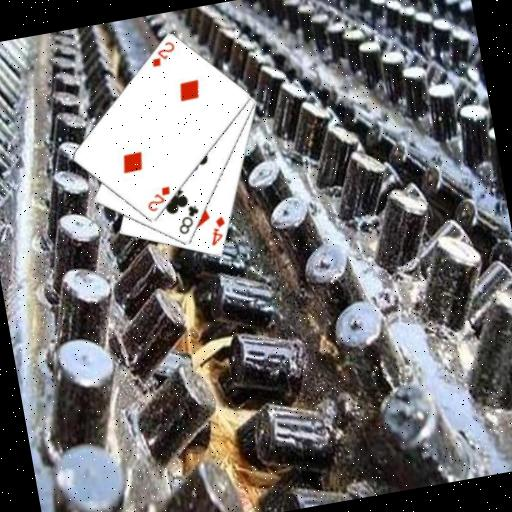2D: (141, 182, 175, 214), (145, 38, 179, 70)
4D: (204, 213, 231, 248)
8C: (172, 201, 204, 237)
